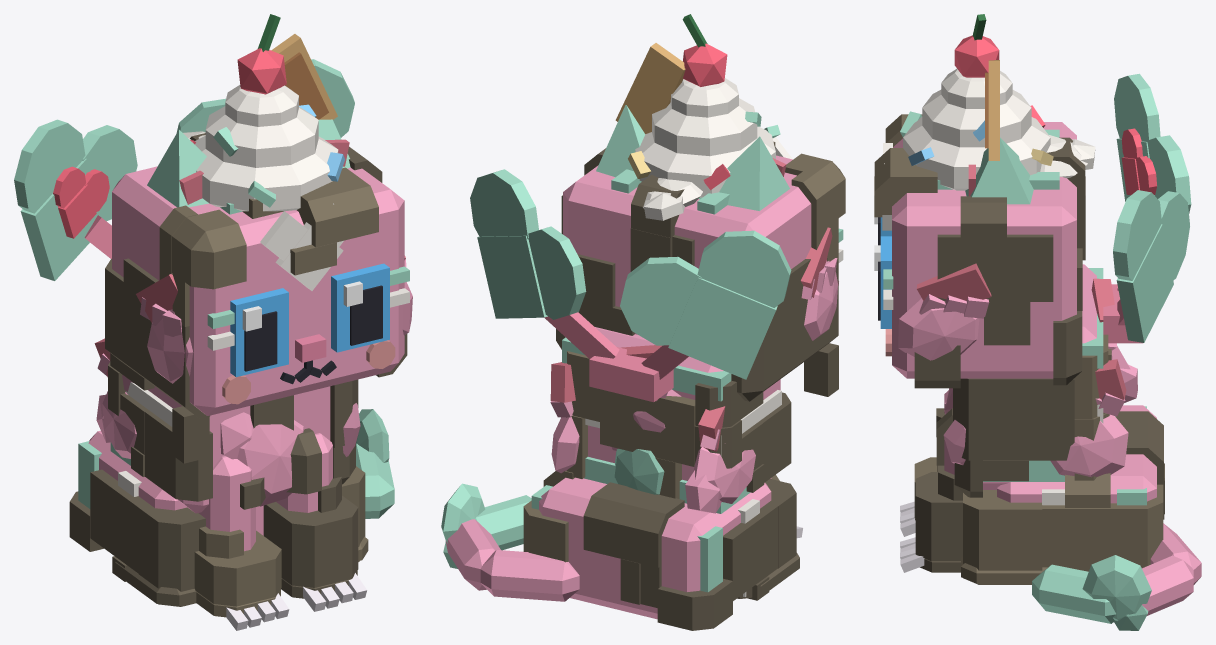
File: CleanACat_Cat_Sherbet_Dirty_Sit.fbx
3 views of the same model, side by side, from view 1: azimuth 30°, elevation 25°; view 2: azimuth 150°, elevation 25°; view 3: azimuth 270°, elevation 25° (orthographic). The views are drawn at different scales.
Parts seen in each view (by area): view 1: CleanACat_Cat_Sherbet_Dirty_Sit_Head, CleanACat_Cat_Sherbet_Dirty_Sit_Prop, CleanACat_Cat_Sherbet_Dirty_Sit_Prop2, CleanACat_Cat_Sherbet_Dirty_Sit_Mud17, CleanACat_Cat_Sherbet_Dirty_Sit_Mud01, CleanACat_Cat_Sherbet_Dirty_Sit_Body, CleanACat_Cat_Sherbet_Dirty_Sit_Mud06, CleanACat_Cat_Sherbet_Dirty_Sit_Mud18, CleanACat_Cat_Sherbet_Dirty_Sit_Mud16, CleanACat_Cat_Sherbet_Dirty_Sit_Mud03, CleanACat_Cat_Sherbet_Dirty_Sit_Mud14, CleanACat_Cat_Sherbet_Dirty_Sit_Mud10 (+22 smaller); view 2: CleanACat_Cat_Sherbet_Dirty_Sit_Prop2, CleanACat_Cat_Sherbet_Dirty_Sit_Body, CleanACat_Cat_Sherbet_Dirty_Sit_Prop, CleanACat_Cat_Sherbet_Dirty_Sit_Head, CleanACat_Cat_Sherbet_Dirty_Sit_Mud09, CleanACat_Cat_Sherbet_Dirty_Sit_Tail, CleanACat_Cat_Sherbet_Dirty_Sit_Mud13, CleanACat_Cat_Sherbet_Dirty_Sit_Mud14, CleanACat_Cat_Sherbet_Dirty_Sit_Mud01, CleanACat_Cat_Sherbet_Dirty_Sit_Mud06, CleanACat_Cat_Sherbet_Dirty_Sit_Mud04, CleanACat_Cat_Sherbet_Dirty_Sit_EarR (+16 smaller); view 3: CleanACat_Cat_Sherbet_Dirty_Sit_Head, CleanACat_Cat_Sherbet_Dirty_Sit_Prop2, CleanACat_Cat_Sherbet_Dirty_Sit_Mud02, CleanACat_Cat_Sherbet_Dirty_Sit_Prop, CleanACat_Cat_Sherbet_Dirty_Sit_Mud08, CleanACat_Cat_Sherbet_Dirty_Sit_Mud12, CleanACat_Cat_Sherbet_Dirty_Sit_Mud15, CleanACat_Cat_Sherbet_Dirty_Sit_Body, CleanACat_Cat_Sherbet_Dirty_Sit_Tail, CleanACat_Cat_Sherbet_Dirty_Sit_Mud17, CleanACat_Cat_Sherbet_Dirty_Sit_Fluff01, CleanACat_Cat_Sherbet_Dirty_Sit_Fluff09 (+17 smaller).
Part boxes in pixels (box(x1,y1,x2,y2)): CleanACat_Cat_Sherbet_Dirty_Sit_Head: box(112, 166, 409, 415); CleanACat_Cat_Sherbet_Dirty_Sit_Prop: box(190, 14, 344, 211); CleanACat_Cat_Sherbet_Dirty_Sit_Prop2: box(14, 59, 354, 280); CleanACat_Cat_Sherbet_Dirty_Sit_Mud17: box(263, 477, 358, 598); CleanACat_Cat_Sherbet_Dirty_Sit_Mud01: box(105, 258, 209, 463); CleanACat_Cat_Sherbet_Dirty_Sit_Body: box(78, 382, 330, 535); CleanACat_Cat_Sherbet_Dirty_Sit_Mud06: box(159, 205, 246, 326); CleanACat_Cat_Sherbet_Dirty_Sit_Mud18: box(194, 526, 281, 617); CleanACat_Cat_Sherbet_Dirty_Sit_Mud16: box(115, 505, 205, 606); CleanACat_Cat_Sherbet_Dirty_Sit_Mud03: box(242, 167, 378, 275); CleanACat_Cat_Sherbet_Dirty_Sit_Mud14: box(69, 469, 149, 581); CleanACat_Cat_Sherbet_Dirty_Sit_Mud10: box(120, 393, 212, 501); CleanACat_Cat_Sherbet_Dirty_Sit_Prop2: box(470, 169, 791, 402); CleanACat_Cat_Sherbet_Dirty_Sit_Body: box(531, 327, 781, 619); CleanACat_Cat_Sherbet_Dirty_Sit_Prop: box(615, 14, 780, 197); CleanACat_Cat_Sherbet_Dirty_Sit_Head: box(563, 137, 843, 334); CleanACat_Cat_Sherbet_Dirty_Sit_Mud09: box(566, 351, 695, 498); CleanACat_Cat_Sherbet_Dirty_Sit_Tail: box(445, 495, 579, 601); CleanACat_Cat_Sherbet_Dirty_Sit_Mud13: box(583, 482, 684, 607); CleanACat_Cat_Sherbet_Dirty_Sit_Mud14: box(657, 503, 777, 630); CleanACat_Cat_Sherbet_Dirty_Sit_Mud01: box(731, 259, 838, 401); CleanACat_Cat_Sherbet_Dirty_Sit_Mud06: box(785, 153, 845, 261); CleanACat_Cat_Sherbet_Dirty_Sit_Mud04: box(630, 175, 694, 271); CleanACat_Cat_Sherbet_Dirty_Sit_EarR: box(698, 136, 789, 210); CleanACat_Cat_Sherbet_Dirty_Sit_Head: box(882, 122, 1076, 378); CleanACat_Cat_Sherbet_Dirty_Sit_Prop2: box(1103, 73, 1191, 343); CleanACat_Cat_Sherbet_Dirty_Sit_Mud02: box(914, 196, 1053, 388); CleanACat_Cat_Sherbet_Dirty_Sit_Prop: box(900, 14, 1053, 190); CleanACat_Cat_Sherbet_Dirty_Sit_Mud08: box(953, 378, 1074, 497); CleanACat_Cat_Sherbet_Dirty_Sit_Mud12: box(1042, 473, 1163, 571); CleanACat_Cat_Sherbet_Dirty_Sit_Mud15: box(961, 490, 1047, 584); CleanACat_Cat_Sherbet_Dirty_Sit_Body: box(983, 264, 1156, 505); CleanACat_Cat_Sherbet_Dirty_Sit_Tail: box(1032, 523, 1201, 623); CleanACat_Cat_Sherbet_Dirty_Sit_Mud17: box(915, 465, 962, 572); CleanACat_Cat_Sherbet_Dirty_Sit_Fluff01: box(898, 298, 979, 360); CleanACat_Cat_Sherbet_Dirty_Sit_Fluff09: box(1082, 555, 1151, 630).
Bounding box in the file's own units: 1.51 × 2.25 × 1.24.
1 material, 1 textured.
